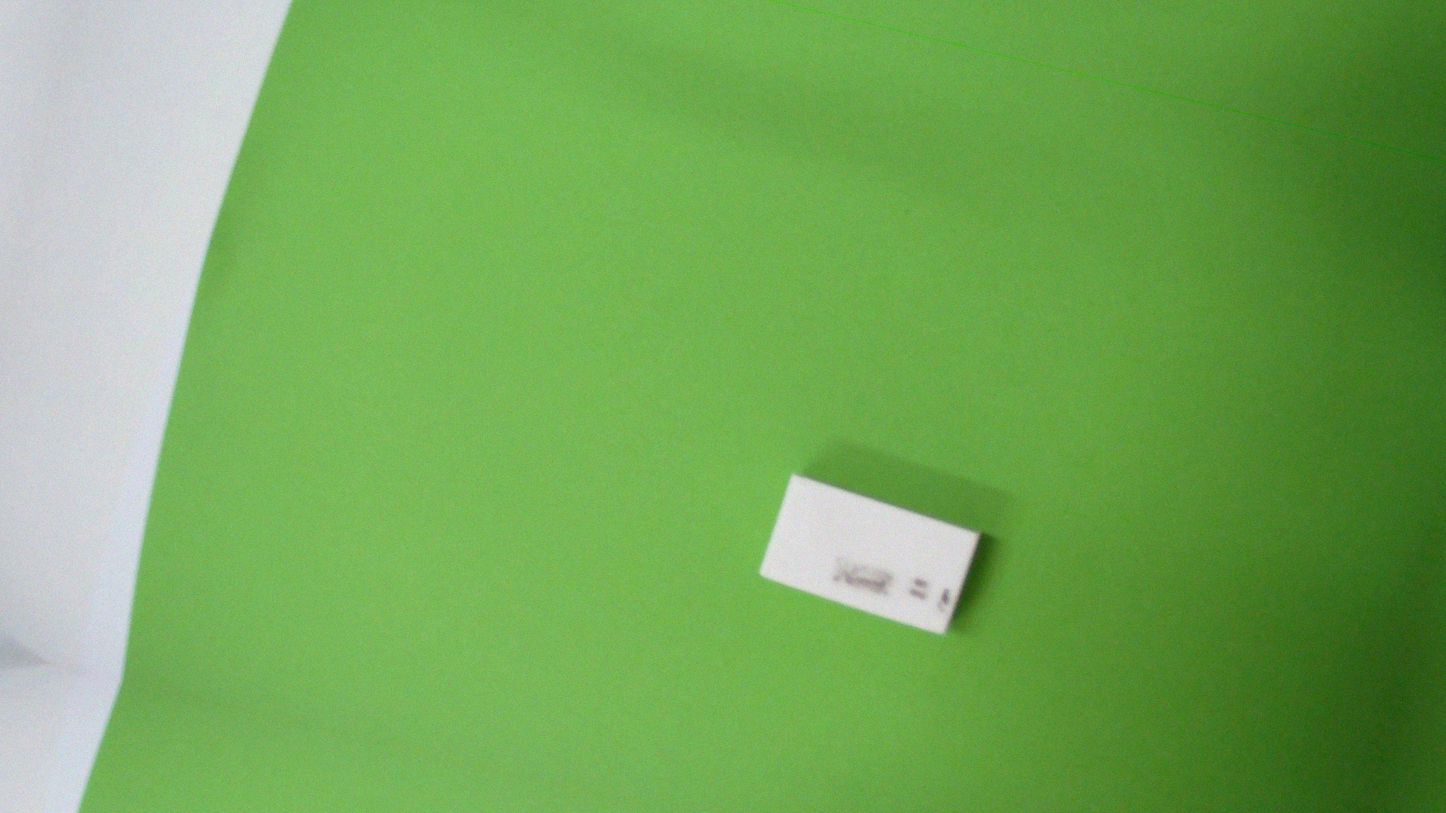gom: (751, 461, 989, 650)
